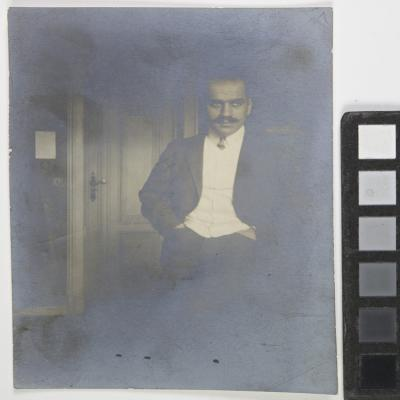photos_negatives: (7, 3, 338, 390)
